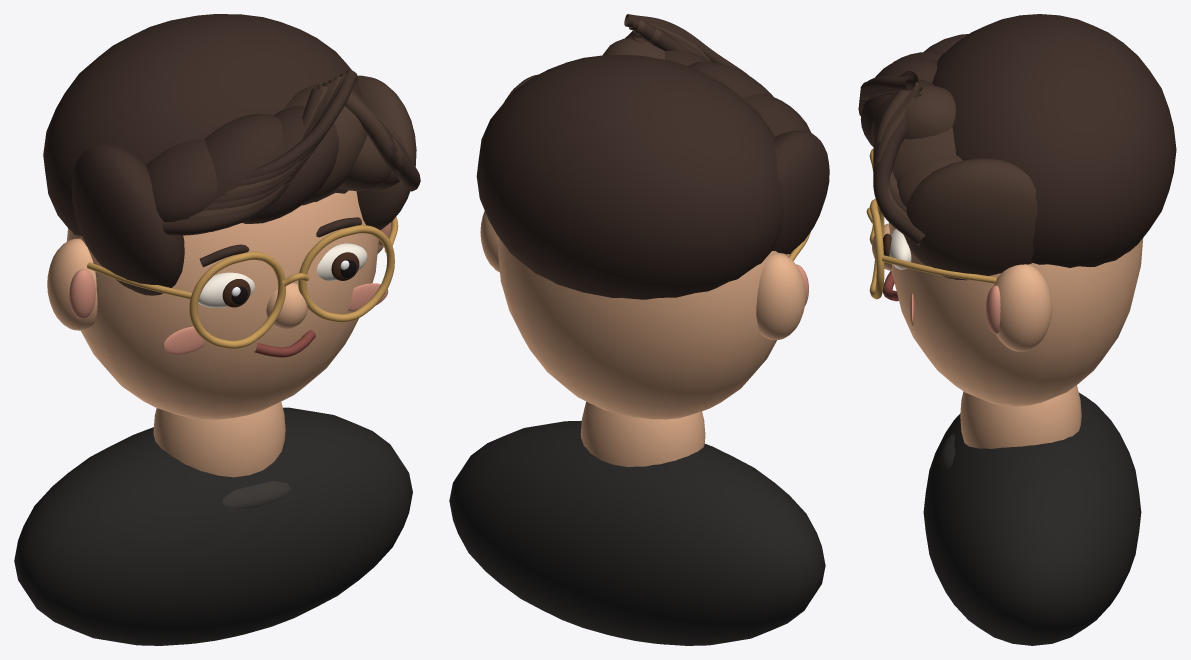
Rendered from junghwan-avatar.glb.
3 renders of one model, left to right at view 1: azimuth 30°, elevation 25°; view 2: azimuth 150°, elevation 25°; view 3: azimuth 270°, elevation 25°, orthographic. The views are drawn at different scales.
Visible parts, largest first — view 1: Sweater torso, Face, Hair cap, Swept hair lock, Neck, Swept hair lock.002, Swept hair lock.003, Swept hair lock.001, Swept hair lock.004, Ear, Swept hair lock.005, Round glasses (+20 smaller); view 2: Hair cap, Sweater torso, Face, Neck, Swept hair lock, Ear, Swept hair lock.002, Swept hair lock.003, Swept hair lock.005, Swept clay strand.006, Ear.001; view 3: Hair cap, Sweater torso, Face, Swept hair lock.001, Neck, Ear.001, Swept hair lock.005, Parted side strand.003, Swept hair lock.006, Round glasses.001, Swept hair lock.007, Swept hair lock.003 (+8 smaller).
Boxes of the visible parts, x1=… form: Sweater torso: x1=14, y1=407, x2=412, y2=645; Face: x1=66, y1=190, x2=378, y2=419; Hair cap: x1=43, y1=14, x2=361, y2=235; Swept hair lock: x1=71, y1=144, x2=184, y2=295; Neck: x1=153, y1=401, x2=285, y2=477; Swept hair lock.002: x1=146, y1=139, x2=217, y2=221; Swept hair lock.003: x1=204, y1=114, x2=283, y2=231; Swept hair lock.001: x1=356, y1=75, x2=416, y2=230; Swept hair lock.004: x1=242, y1=106, x2=338, y2=223; Ear: x1=47, y1=238, x2=97, y2=330; Swept hair lock.005: x1=284, y1=84, x2=367, y2=205; Round glasses: x1=189, y1=251, x2=285, y2=348; Hair cap: x1=476, y1=55, x2=783, y2=299; Sweater torso: x1=449, y1=420, x2=825, y2=645; Face: x1=498, y1=238, x2=789, y2=419; Neck: x1=580, y1=401, x2=705, y2=466; Swept hair lock: x1=772, y1=130, x2=829, y2=254; Ear: x1=756, y1=253, x2=805, y2=339; Swept hair lock.002: x1=742, y1=94, x2=811, y2=136; Swept hair lock.003: x1=688, y1=61, x2=773, y2=98; Swept hair lock.005: x1=603, y1=37, x2=664, y2=59; Swept clay strand.006: x1=624, y1=14, x2=748, y2=75; Ear.001: x1=480, y1=211, x2=499, y2=272; Hair cap: x1=932, y1=14, x2=1176, y2=267; Sweater torso: x1=923, y1=392, x2=1141, y2=645; Face: x1=889, y1=223, x2=1143, y2=406; Swept hair lock.001: x1=904, y1=158, x2=1037, y2=280; Neck: x1=960, y1=385, x2=1081, y2=448; Ear.001: x1=994, y1=264, x2=1052, y2=351; Swept hair lock.005: x1=871, y1=84, x2=955, y2=144; Parted side strand.003: x1=873, y1=116, x2=925, y2=245; Swept hair lock.006: x1=892, y1=128, x2=955, y2=180; Round glasses.001: x1=869, y1=198, x2=884, y2=299; Swept hair lock.007: x1=897, y1=155, x2=962, y2=207; Swept hair lock.003: x1=875, y1=57, x2=937, y2=82.
Bounding box in the file's own units: 2.04 × 3.04 × 1.52.
